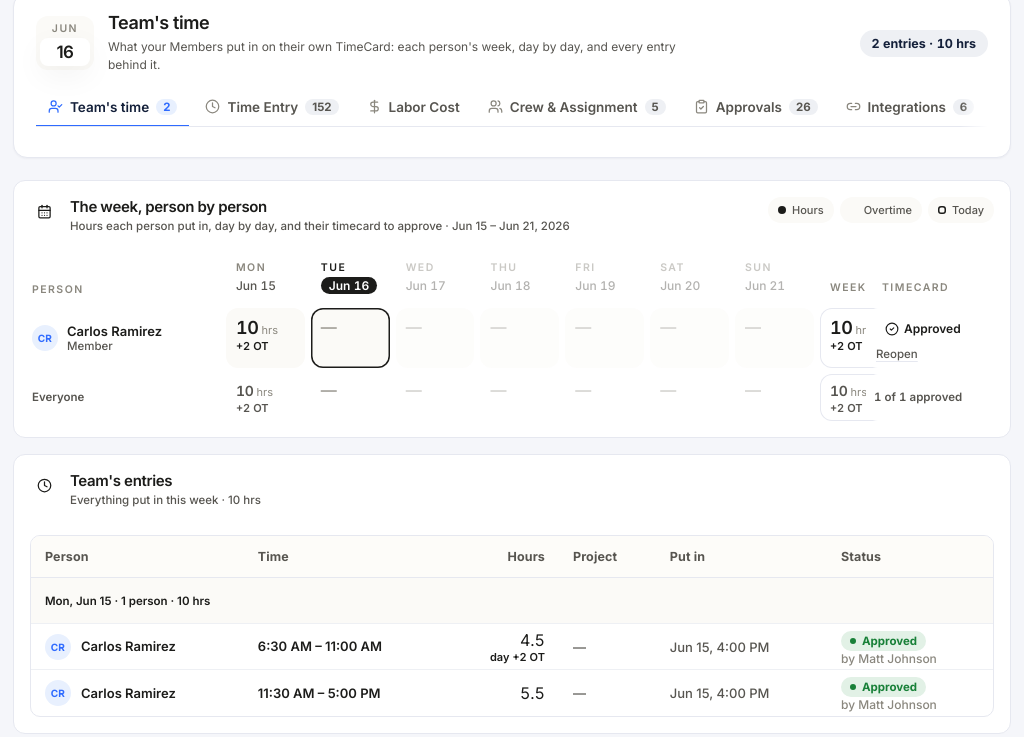
it: approving a person's timecard › reopens an approval made by mistake
The image size is (1024, 737).
(page scrolled)
Click the button with aria-label "Reopen Carlos Ramirez's timecard": click(897, 354) [874,347,920,361]
(page scrolled)
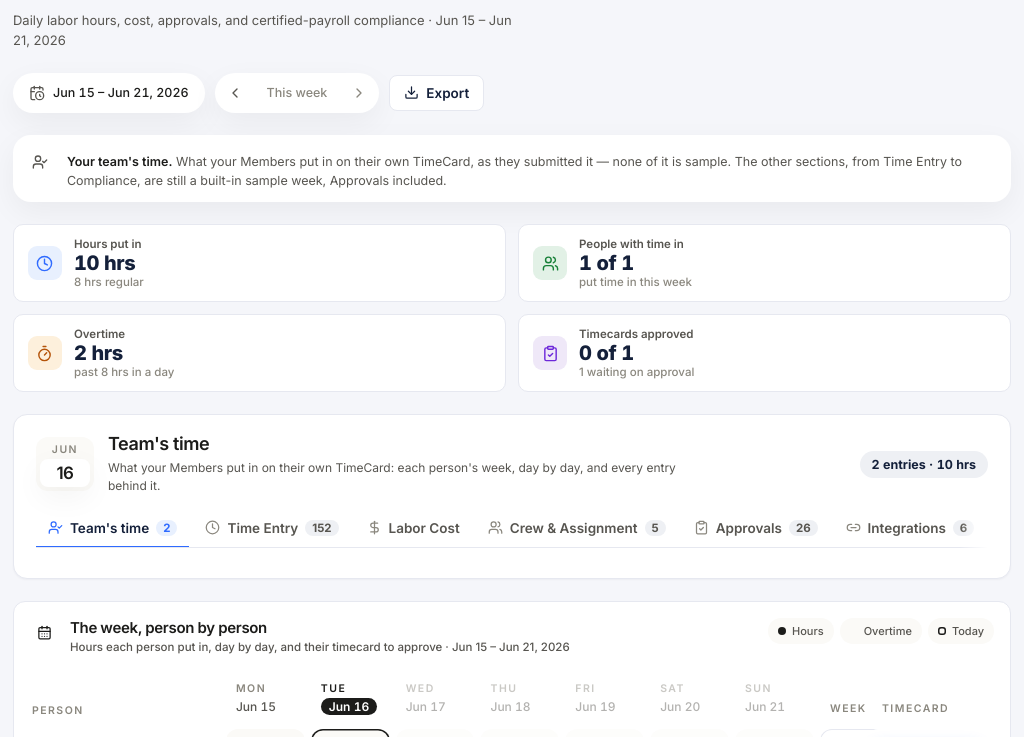
expect the text "Timecards approved" shows "0 of 1": met, box [518,314,1011,392]
